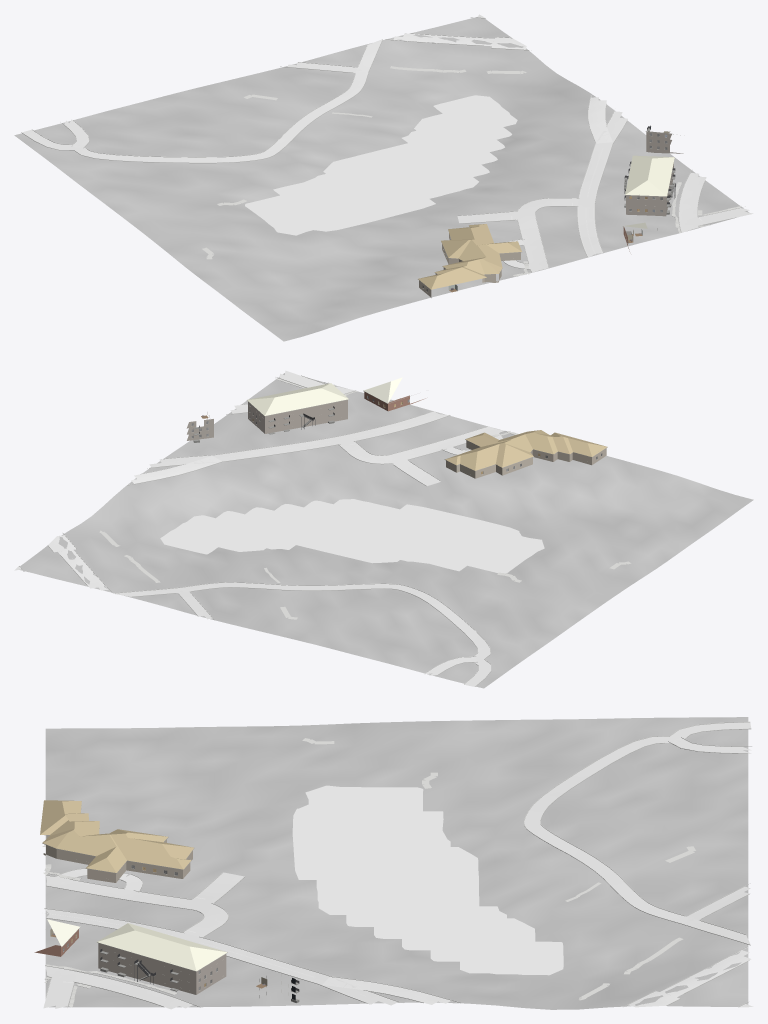
The picture shows the model from 3 angles, top to bottom: view 1: azimuth 30°, elevation 25°; view 2: azimuth 150°, elevation 25°; view 3: azimuth 270°, elevation 25°; orthographic projection. The views are drawn at different scales.
Parts seen in each view (by area): view 1: ground, water, concrete, roof, asphalt, curb, wall, walk; view 2: ground, water, concrete, roof, wall, asphalt, curb, walk, detail; view 3: ground, water, concrete, roof, asphalt, wall, curb, walk, detail.
Part boxes in pixels (x1,y1,x2,y2): ground: (14, 17, 748, 341); water: (245, 95, 517, 235); concrete: (22, 39, 753, 272); roof: (418, 155, 674, 289); asphalt: (394, 14, 627, 257); curb: (21, 17, 745, 276); wall: (419, 131, 683, 297); walk: (202, 66, 741, 276); ground: (19, 373, 753, 688); water: (160, 499, 544, 573); concrete: (113, 370, 503, 686); roof: (247, 377, 607, 470); wall: (186, 392, 606, 478); asphalt: (14, 411, 448, 590); curb: (19, 375, 513, 686); walk: (99, 378, 631, 619); detail: (191, 391, 607, 474); ground: (45, 717, 748, 1009); water: (292, 785, 563, 975); concrete: (43, 722, 751, 1009); roof: (40, 800, 227, 971); asphalt: (44, 908, 753, 1007); wall: (34, 835, 226, 994); curb: (44, 721, 751, 1007); walk: (43, 738, 695, 1007); detail: (42, 828, 299, 1002).
Size of the model in its own units: 255 by 20.13 by 263.
